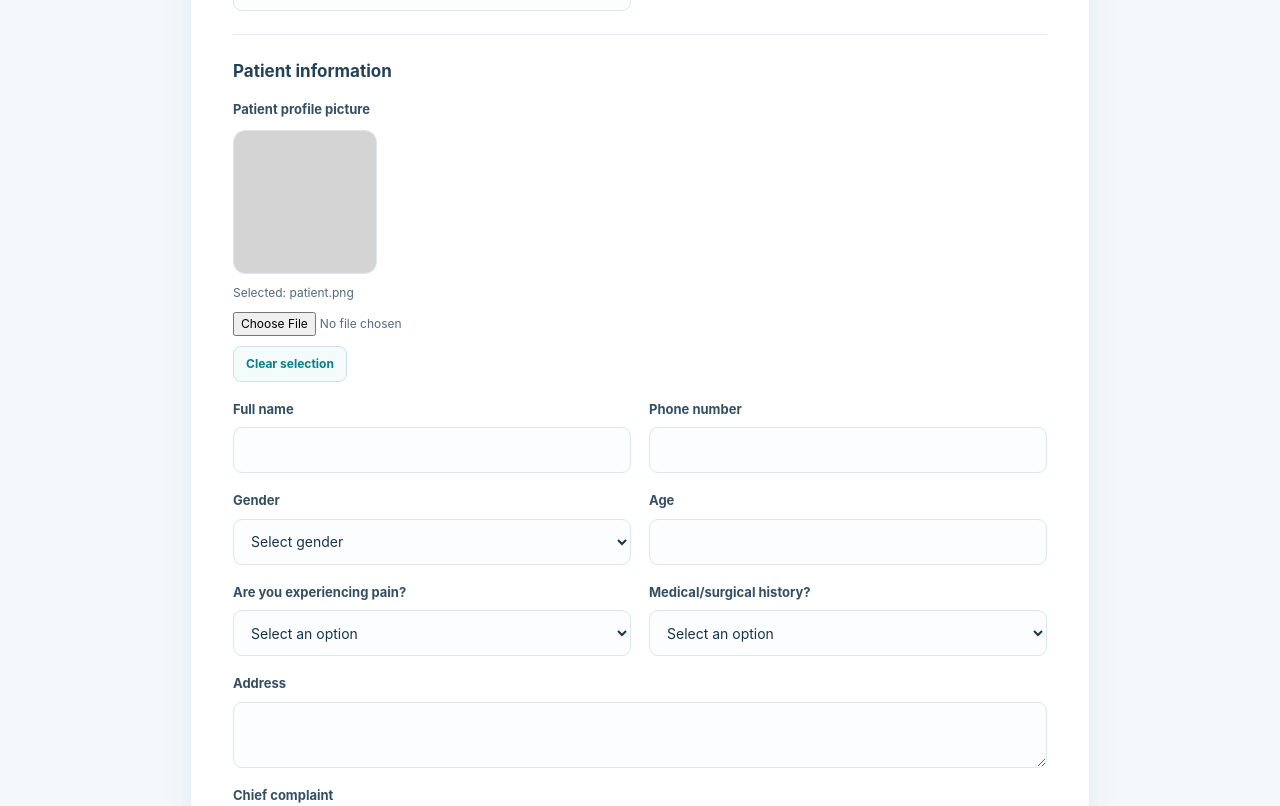
profile image upload page integrations › creates a patient, retries only a failed picture upload, and supports removal
Earlier steps of the test are not shown.
Later steps or results of the test are not shown.
(page scrolled)
Step 1. Type "Patient Name" into the field labelled "Full name" → (432, 450), box x1=233 y1=428 x2=631 y2=474
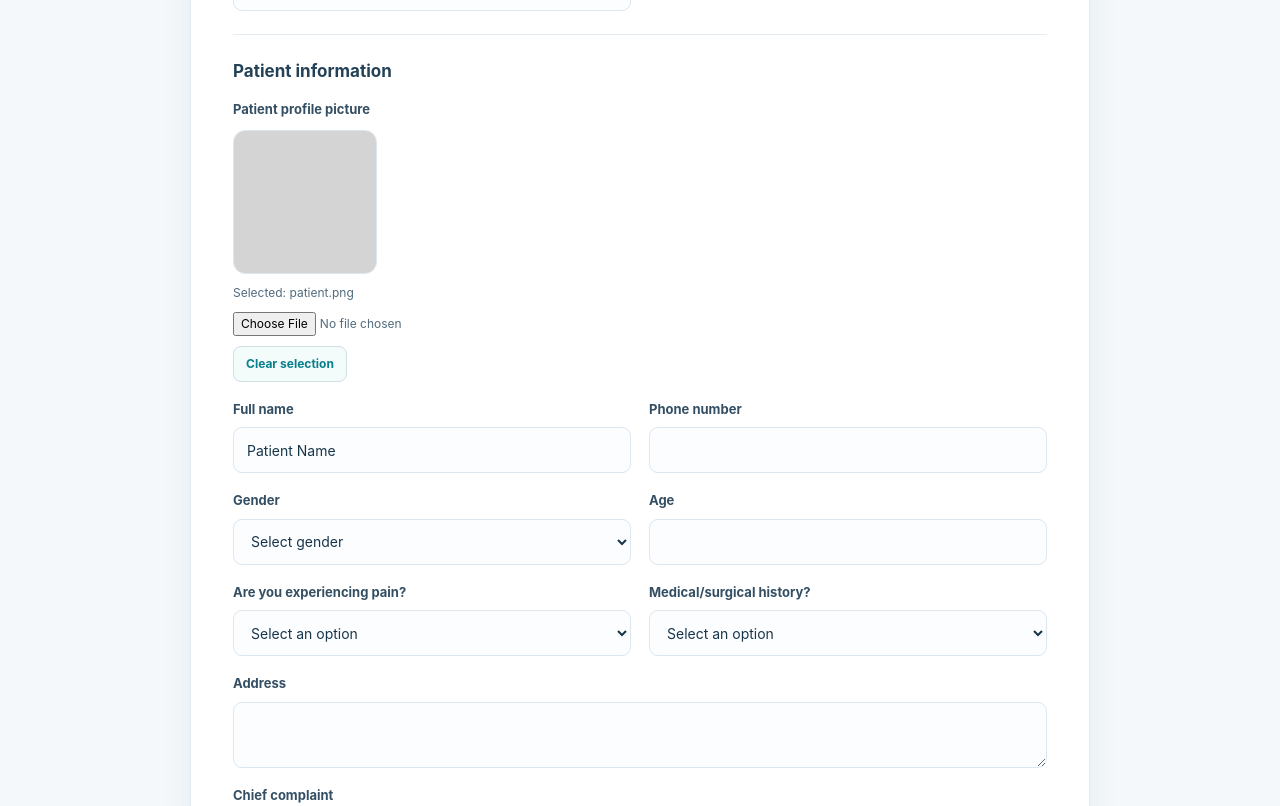
Step 2. Type "5551234567" into the field labelled "Phone number" → (848, 450), box x1=649 y1=428 x2=1047 y2=474
(page scrolled)
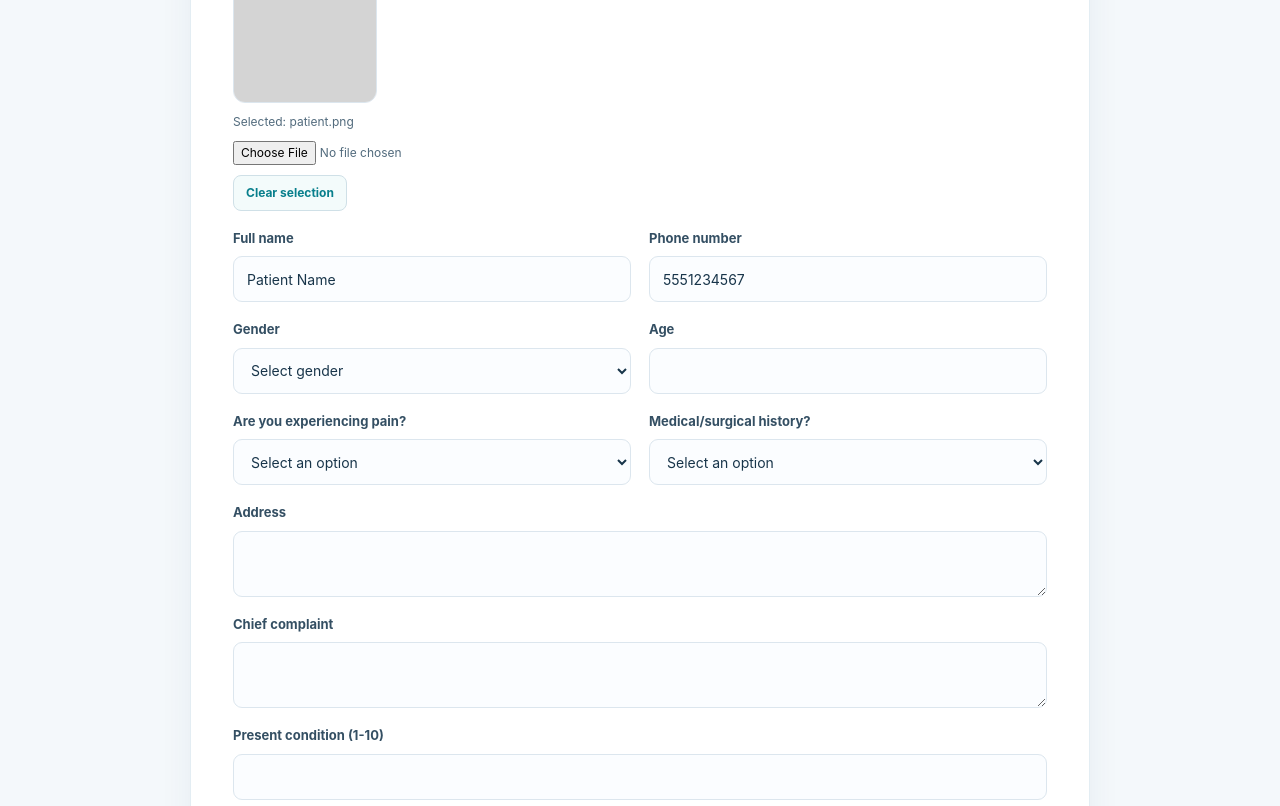
Step 3. Submit the form named "Create account and patient profile"
(page scrolled)
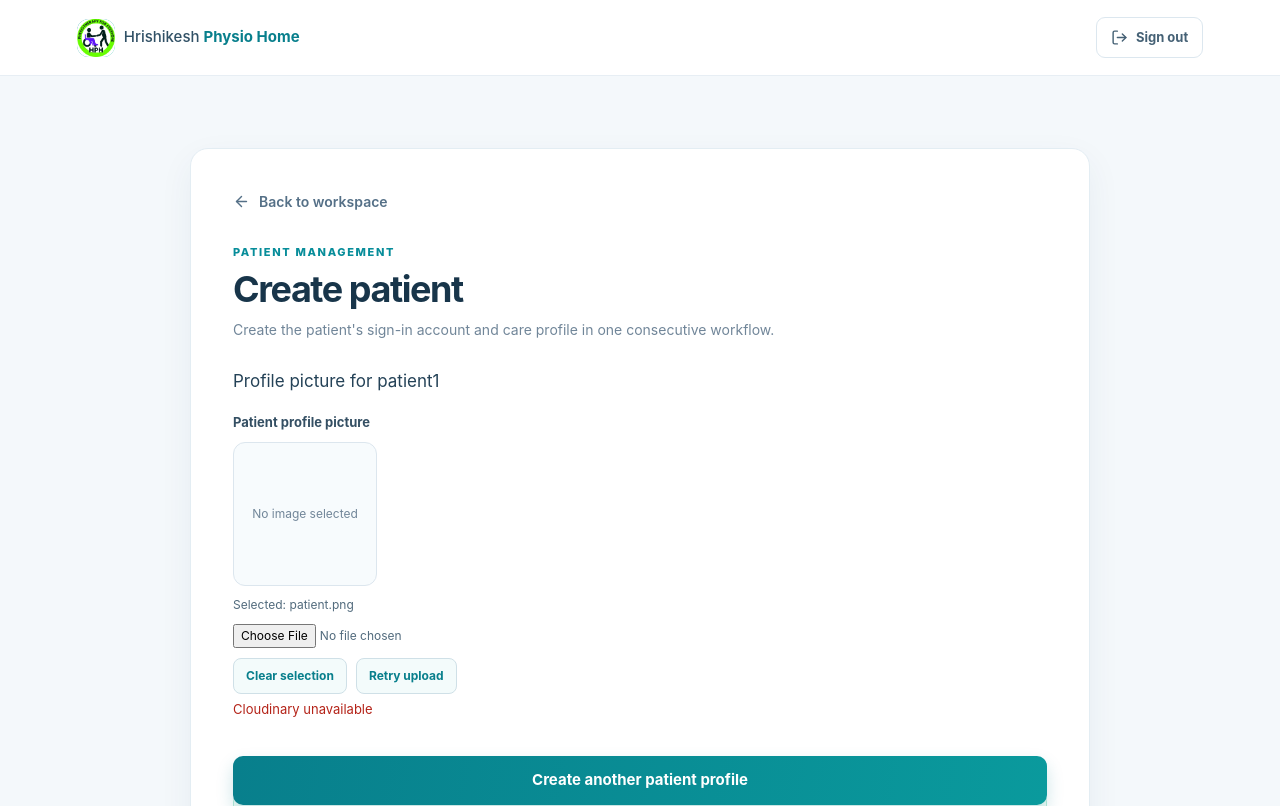
Check: the text "Cloudinary unavailable" is shown, box x1=233 y1=700 x2=373 y2=720
Step 4. Click the button "Retry upload" → (406, 676), box x1=356 y1=658 x2=457 y2=694
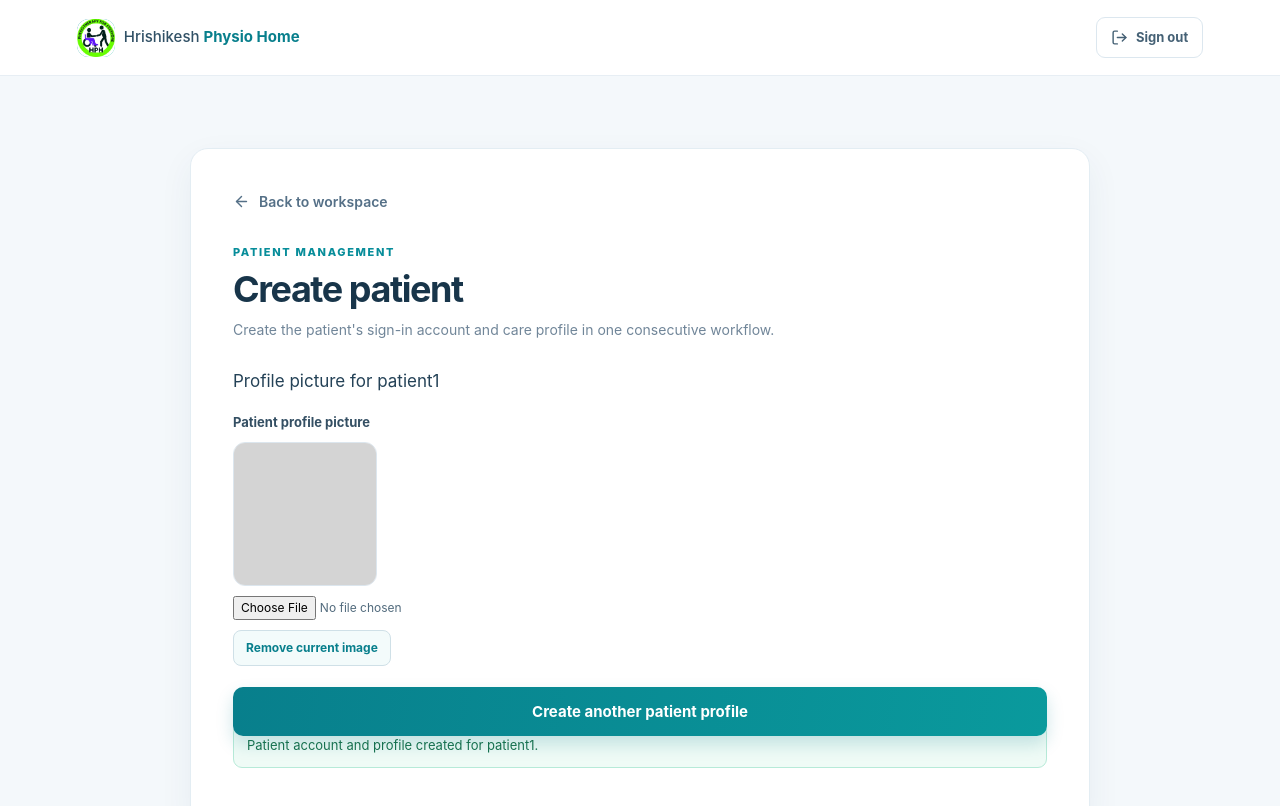
Check: the button with aria-label "Remove Patient profile picture" is shown, box x1=233 y1=630 x2=391 y2=666
